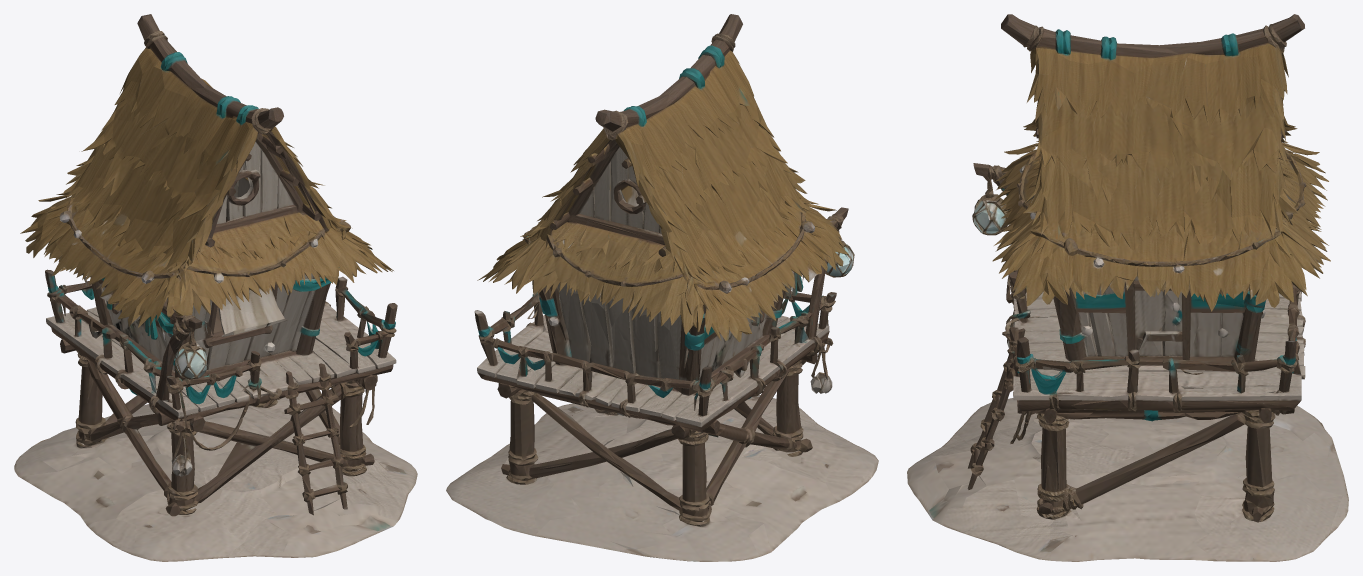
File: beach_hut.glb
3 renders of one model, left to right at view 1: azimuth 30°, elevation 25°; view 2: azimuth 150°, elevation 25°; view 3: azimuth 270°, elevation 25°, orthographic. The views are drawn at different scales.
Parts seen in each view (by area): view 1: Mesh_0; view 2: Mesh_0; view 3: Mesh_0.
Boxes of the visible parts, left/top/right/bottom form: Mesh_0: left=14, top=14, right=417, bottom=561; Mesh_0: left=446, top=14, right=878, bottom=561; Mesh_0: left=907, top=14, right=1348, bottom=561.
Bounding box in the file's own units: 1.48 × 1.9 × 1.66.
1 material, 1 textured.
